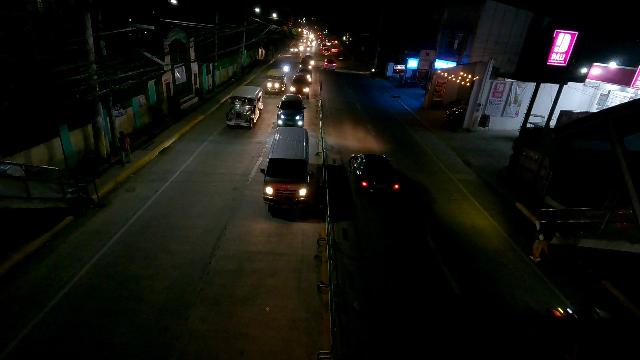car: (348, 153, 400, 195), (275, 94, 305, 128), (289, 74, 312, 99), (297, 66, 313, 83), (298, 59, 312, 71)
jeepney: (225, 85, 264, 128), (265, 67, 285, 94)
van: (259, 126, 312, 209)
